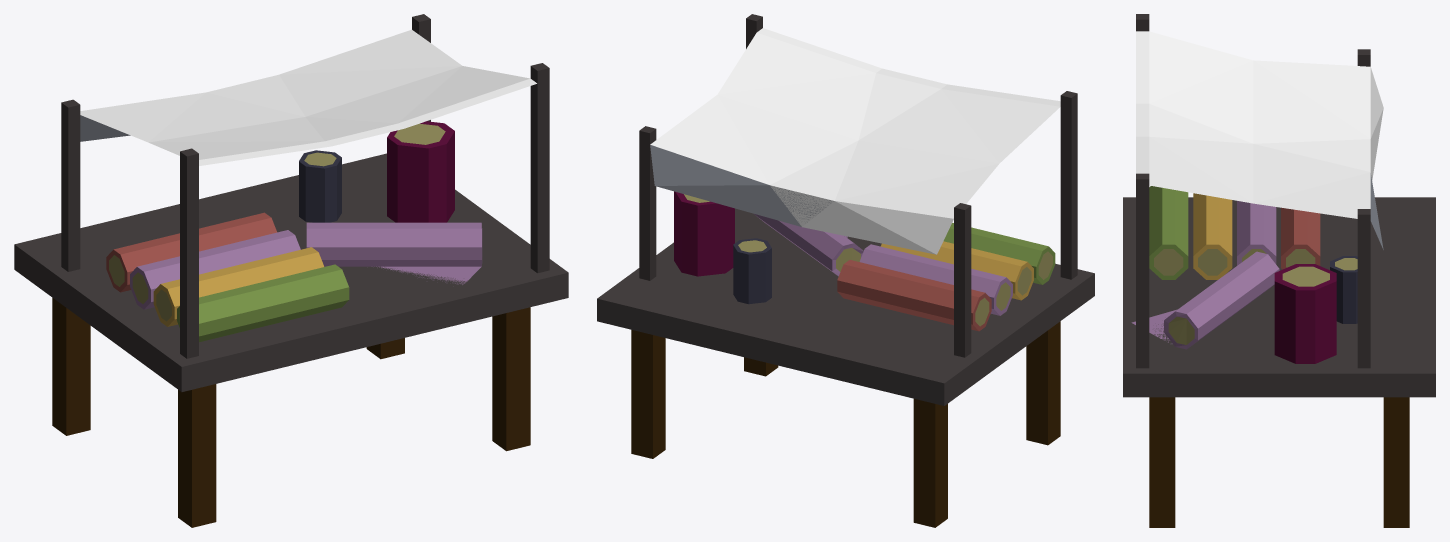
Rendered from obj_silver_stall_1_0.obj.
3 views of the same model, side by side, from view 1: azimuth 30°, elevation 25°; view 2: azimuth 150°, elevation 25°; view 3: azimuth 270°, elevation 25° (orthographic). The views are drawn at different scales.
Size of the model in its own units: 2 by 1.88 by 1.5.
